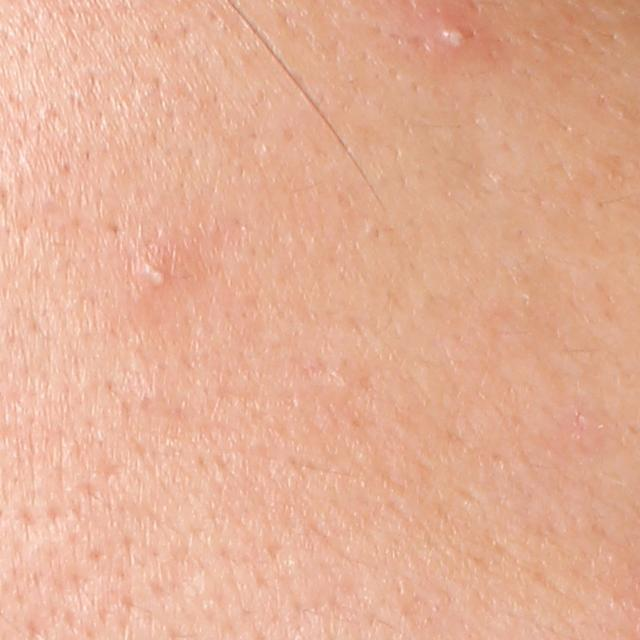pustule: (422, 6, 478, 56), (140, 261, 170, 295)
